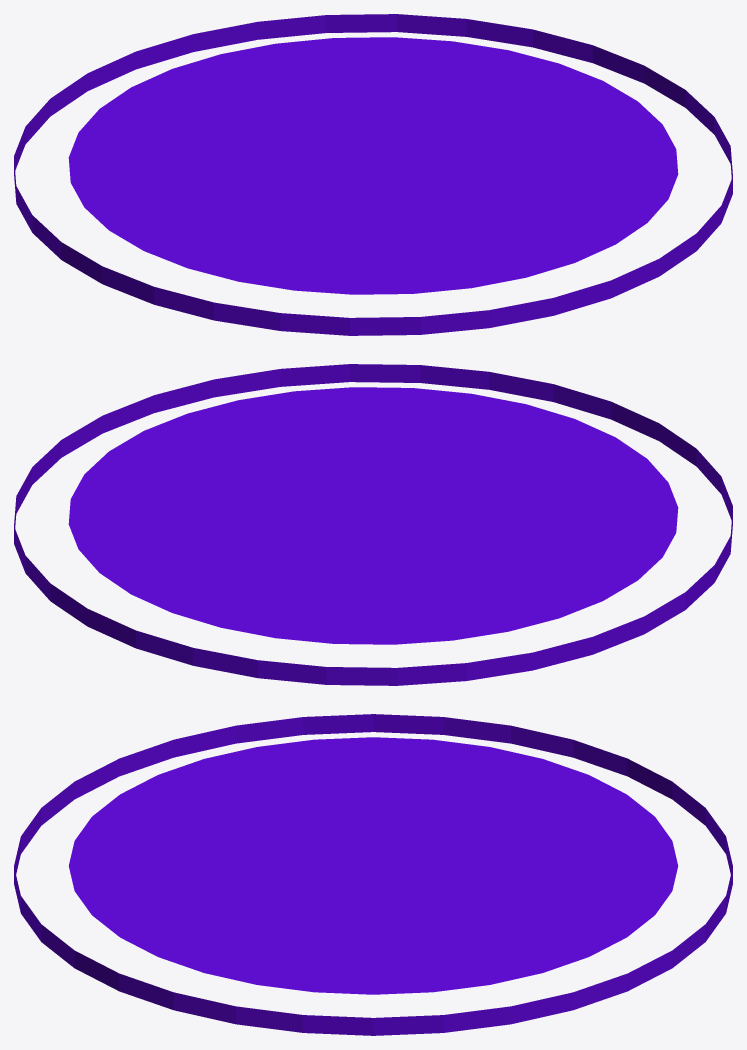
File: circles.glb
3 views of the same model, one above another, from view 1: azimuth 30°, elevation 25°; view 2: azimuth 150°, elevation 25°; view 3: azimuth 270°, elevation 25° (orthographic).
Visible parts, largest first — view 1: Circle, Circle.001; view 2: Circle, Circle.001; view 3: Circle, Circle.001.
Boxes of the visible parts, x1,y1,x2,y2 form: Circle: (68,37,678,294); Circle.001: (14,14,732,335); Circle: (68,387,678,644); Circle.001: (14,364,732,685); Circle: (69,737,677,994); Circle.001: (14,714,732,1035).
Size of the model in its own units: 2.36 by 0.0652 by 2.36.
